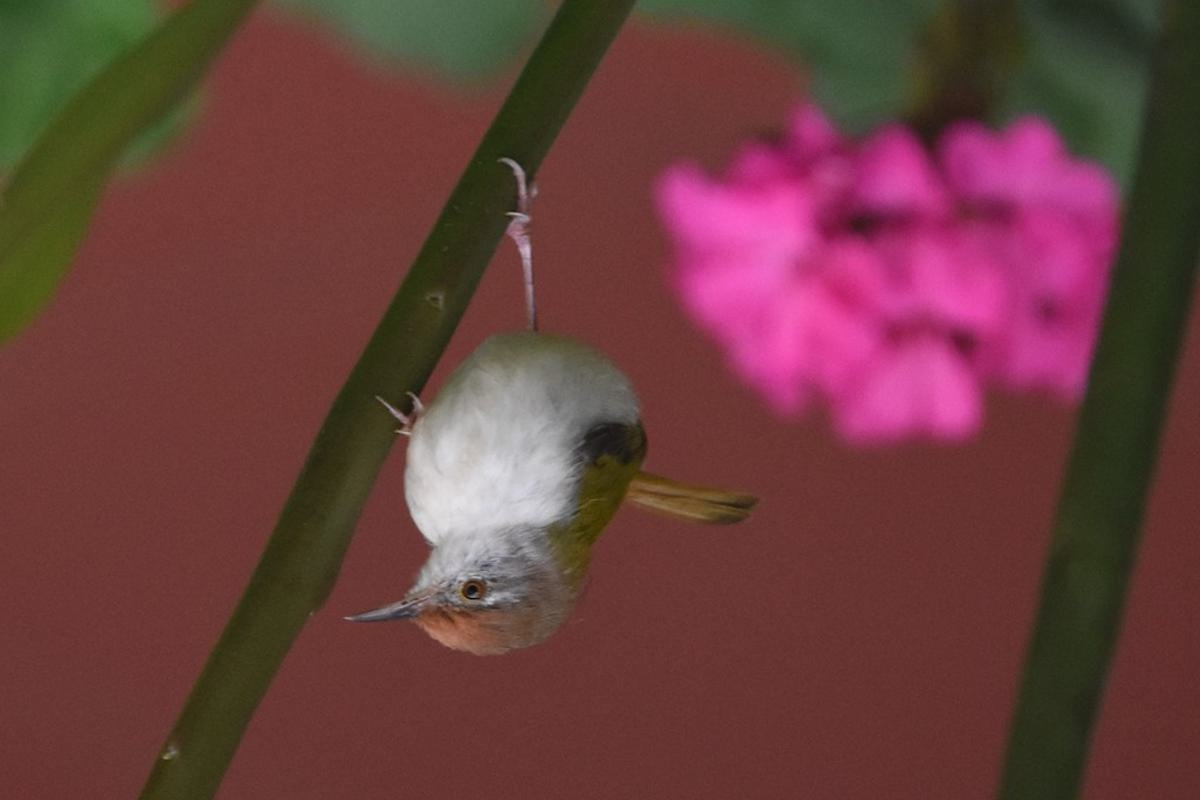tailorbird: (336, 273, 760, 685)
